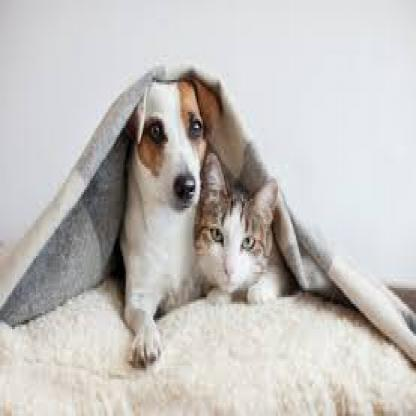cat: (120, 57, 219, 212)
